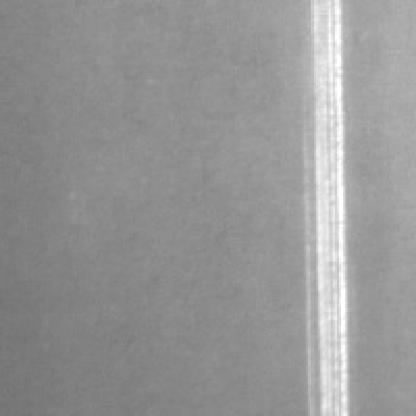scratches: (304, 0, 360, 412)
